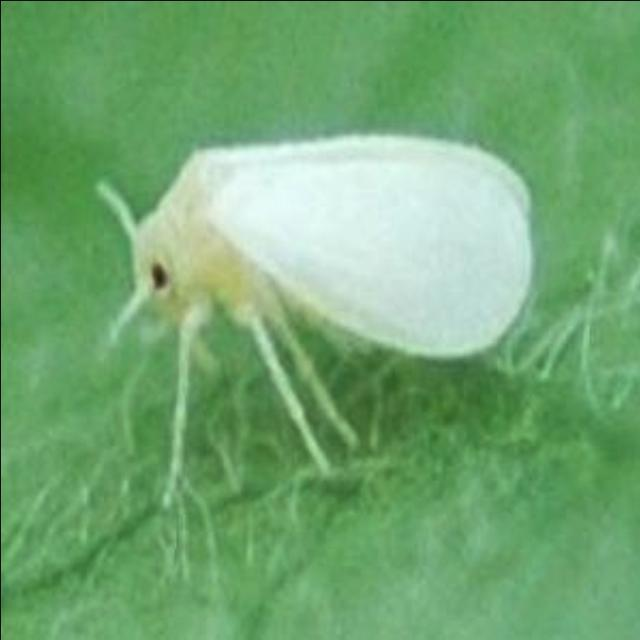Silverleaf whitefly: (62, 104, 544, 502)
